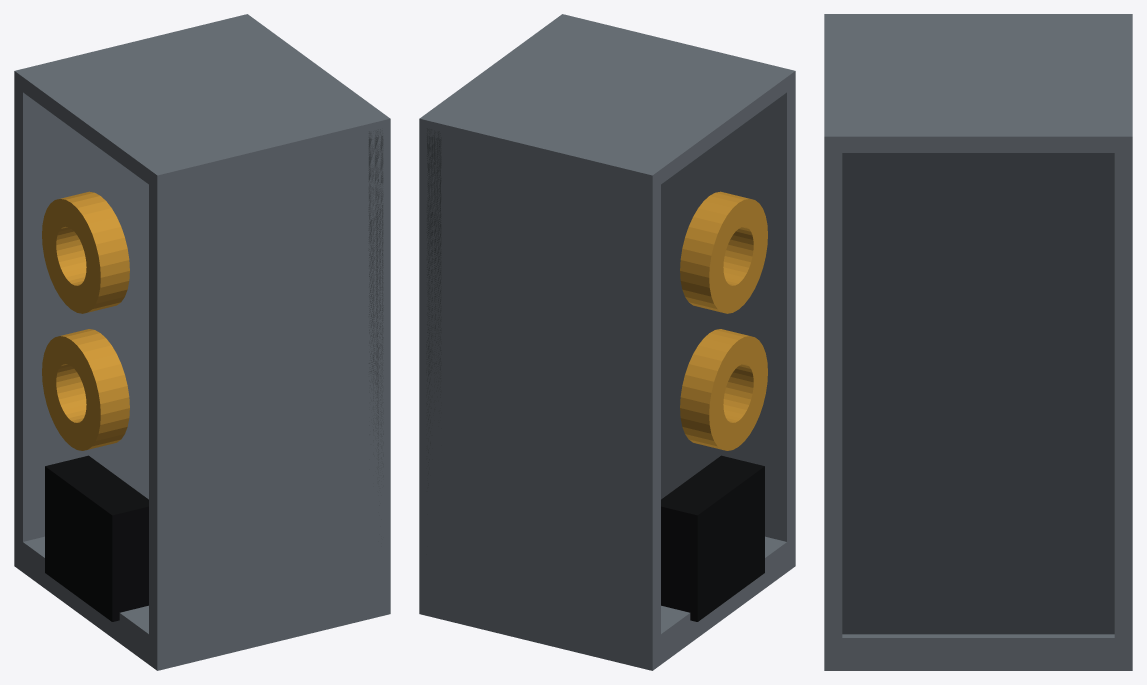
The model's file is L32_AUDIO.fbx.
3 renders of one model, left to right at view 1: azimuth 30°, elevation 25°; view 2: azimuth 150°, elevation 25°; view 3: azimuth 270°, elevation 25°, orthographic. The views are drawn at different scales.
Parts seen in each view (by area): view 1: AUDIO_Steel, AUDIO_Gold, AUDIO_Black, AUDIO_Gray; view 2: AUDIO_Steel, AUDIO_Gold, AUDIO_Black, AUDIO_Gray; view 3: AUDIO_Gray, AUDIO_Steel.
Part boxes in pixels (<box>): AUDIO_Steel: <box>14,14,390,670</box>; AUDIO_Gold: <box>42,191,129,450</box>; AUDIO_Black: <box>45,455,148,621</box>; AUDIO_Gray: <box>368,129,383,505</box>; AUDIO_Steel: <box>419,14,795,670</box>; AUDIO_Gold: <box>680,191,767,450</box>; AUDIO_Black: <box>661,455,764,621</box>; AUDIO_Gray: <box>426,128,441,485</box>; AUDIO_Gray: <box>842,153,1114,634</box>; AUDIO_Steel: <box>824,14,1132,670</box>.
Size of the model in its own units: 1.7 by 3.25 by 1.7.
